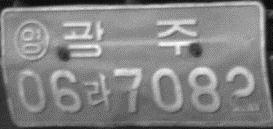0: (149, 67, 183, 114), (16, 69, 46, 113)
2: (225, 65, 260, 112)
6: (49, 68, 81, 114)
7: (112, 67, 143, 114)
8: (186, 65, 222, 114)
광주_D: (62, 18, 199, 59)
라: (83, 72, 111, 109)
영: (13, 19, 51, 62)
